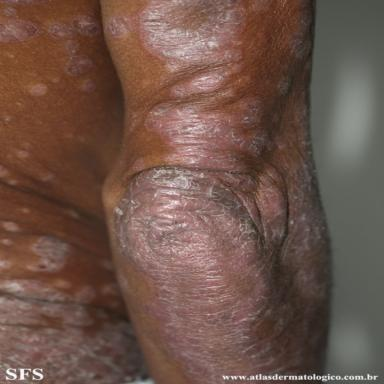Psoriasis: (117, 103, 327, 384), (1, 260, 144, 384), (105, 1, 242, 72), (0, 1, 102, 43), (163, 65, 241, 100), (28, 235, 70, 272), (288, 14, 314, 69), (65, 41, 93, 77), (15, 142, 34, 162), (1, 165, 19, 186), (277, 76, 294, 96), (30, 83, 48, 96), (2, 221, 19, 232), (83, 79, 96, 92), (1, 238, 13, 246)
